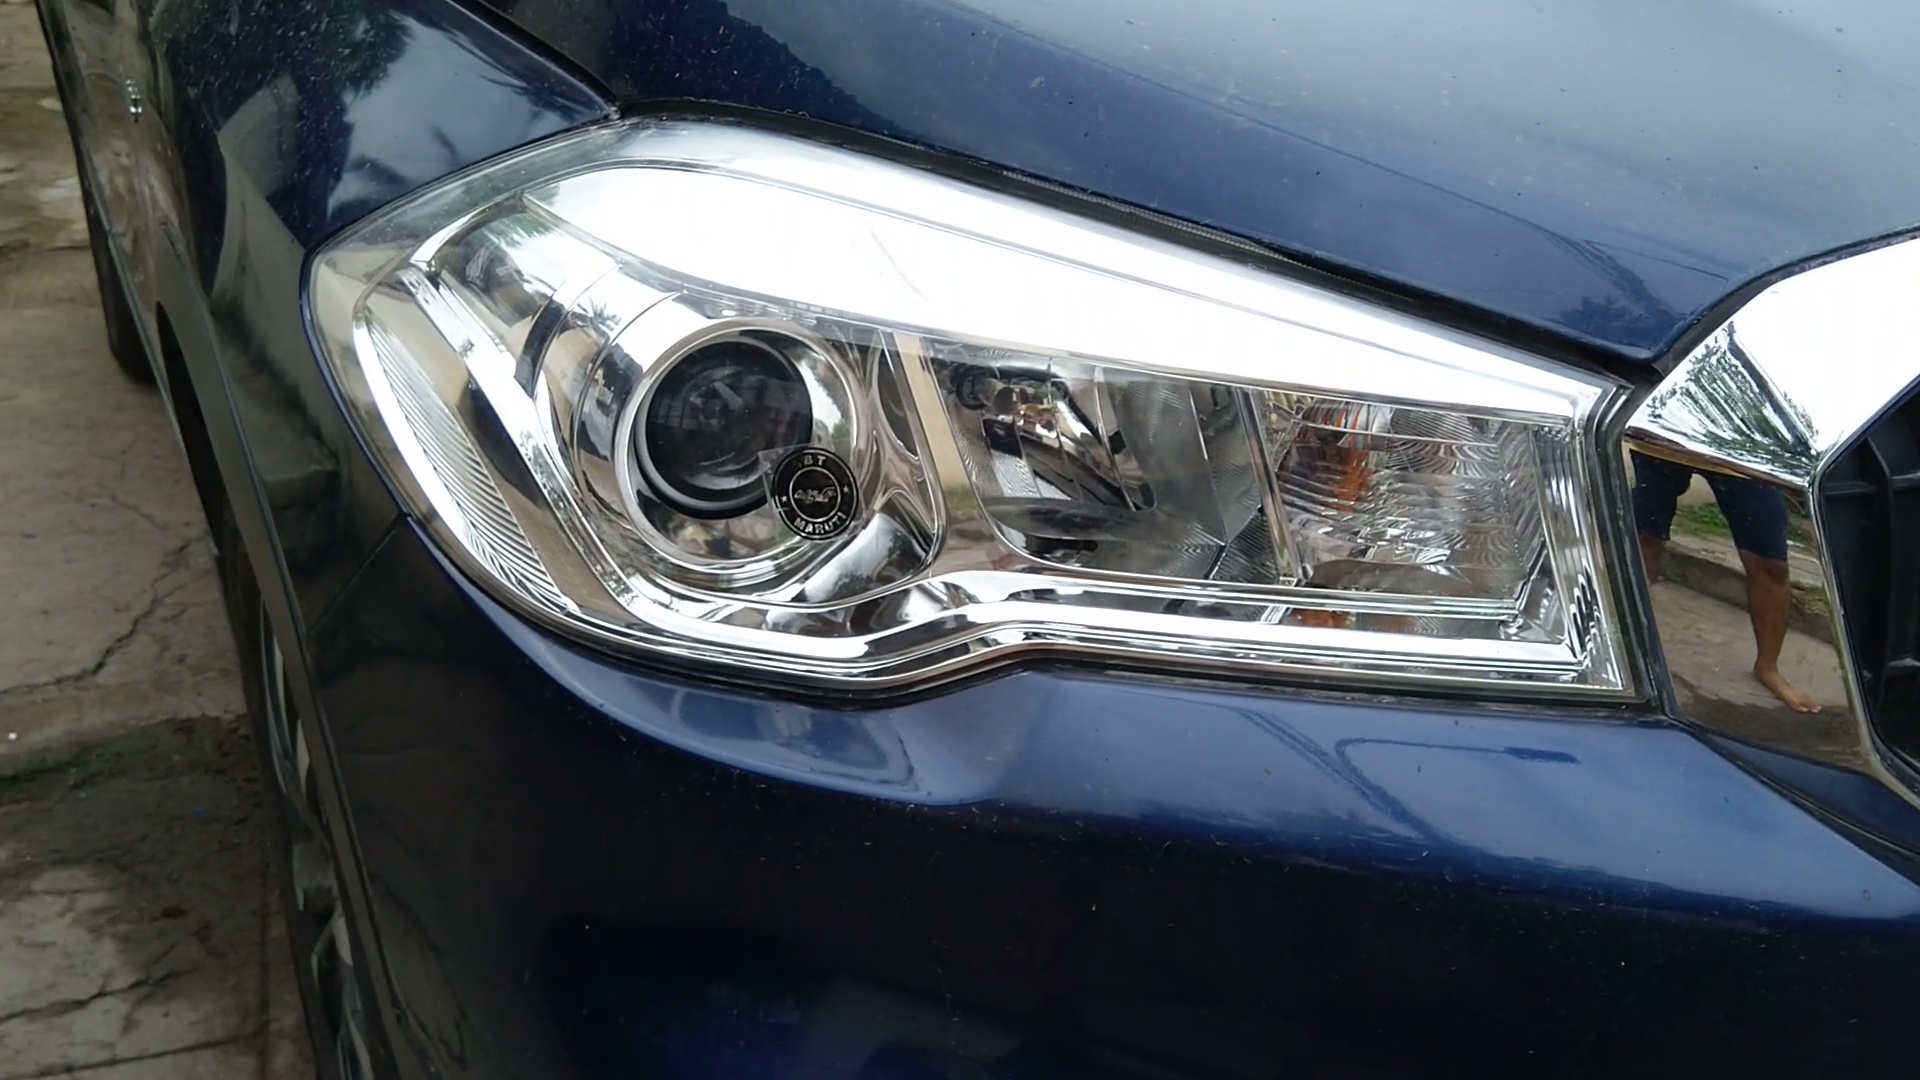headlamp: (281, 75, 1679, 802)
